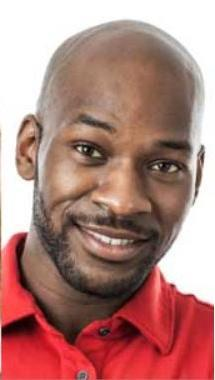Sober: (43, 69, 190, 266)
